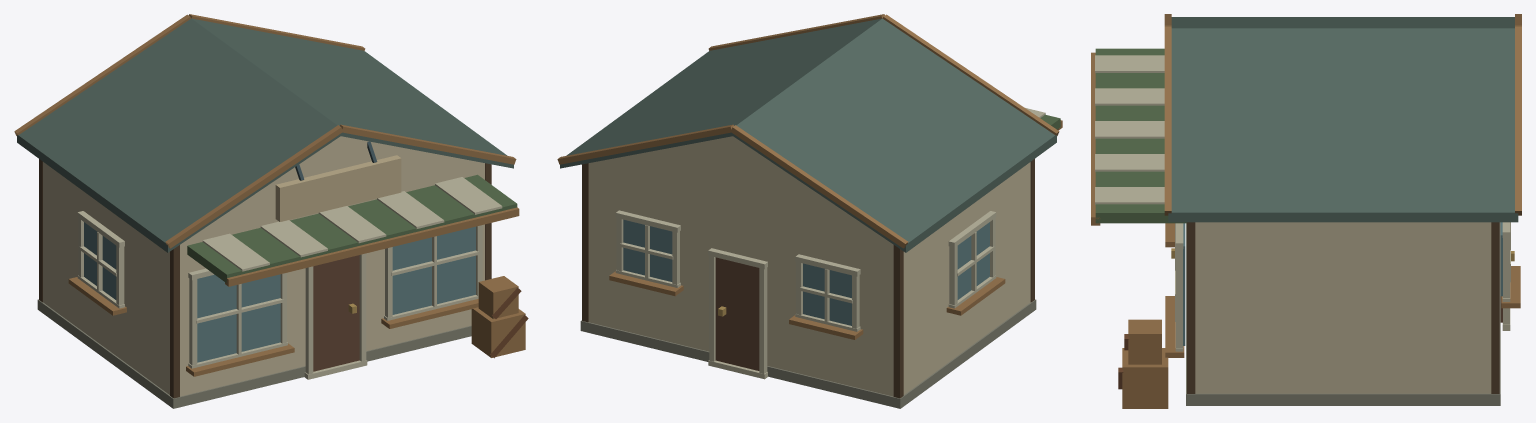
File: Building_Settlement_GeneralStore_001.glb
3 renders of one model, left to right at view 1: azimuth 30°, elevation 25°; view 2: azimuth 150°, elevation 25°; view 3: azimuth 270°, elevation 25°, orthographic. The views are drawn at different scales.
Visible parts, largest first — view 1: Building_Settlement_GeneralStore_001; view 2: Building_Settlement_GeneralStore_001; view 3: Building_Settlement_GeneralStore_001.
Boxes of the visible parts, <box> form: Building_Settlement_GeneralStore_001: <box>14,14,528,408</box>; Building_Settlement_GeneralStore_001: <box>557,14,1062,408</box>; Building_Settlement_GeneralStore_001: <box>1091,14,1521,408</box>.
Size of the model in its own units: 6.6 by 4.52 by 6.09.
